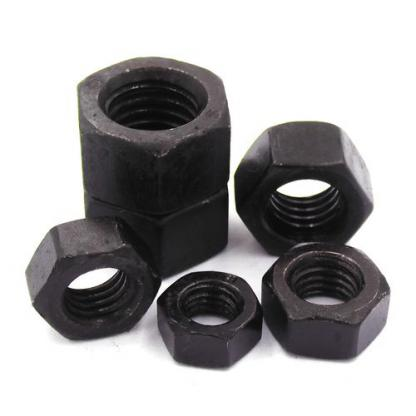FOD: (75, 51, 235, 206), (231, 117, 379, 260), (22, 214, 165, 344), (260, 239, 393, 364), (152, 269, 254, 372)
